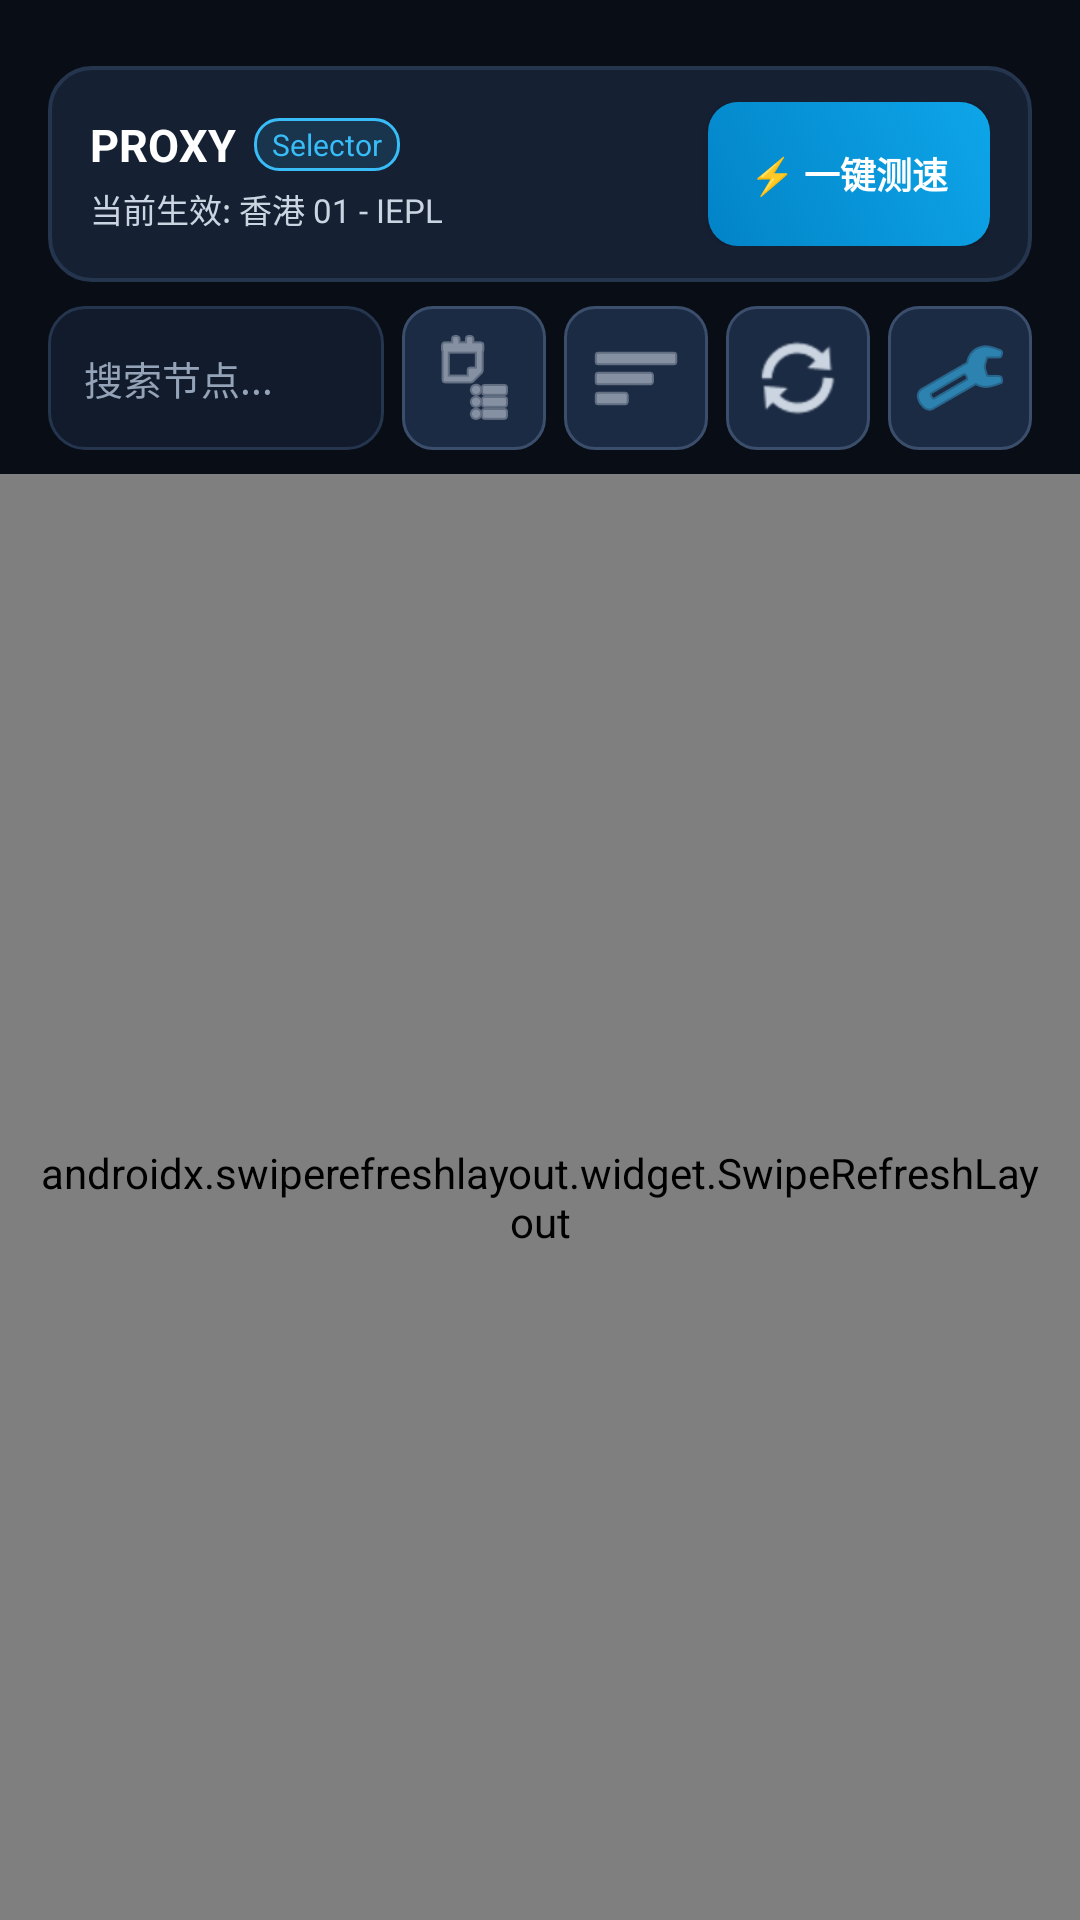

Screen size 1080 × 1920. Icon name, then its box in pixels as bbox=[x1, y1, x2, y2]:
切换网格或单列视图: bbox=[402, 306, 546, 450]
切换节点排序方式: bbox=[564, 306, 708, 450]
刷新节点延迟状态: bbox=[726, 306, 870, 450]
打开原生 Proxies Inspector: bbox=[888, 306, 1032, 450]
